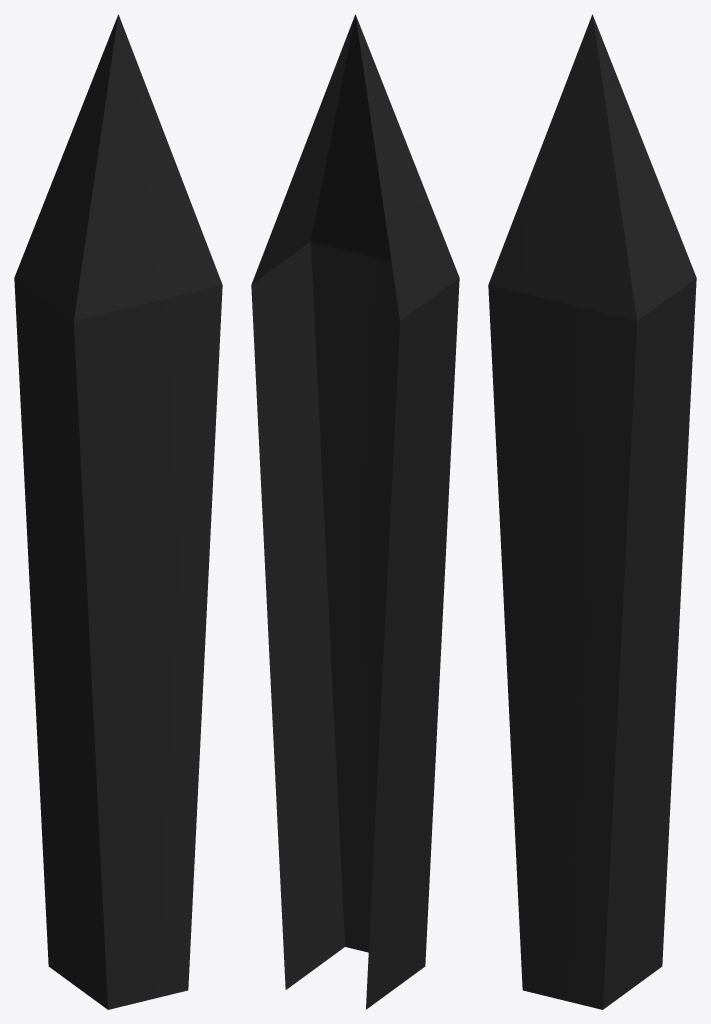
File: lancetta_ore_V2.fbx
3 views of the same model, side by side, from view 1: azimuth 30°, elevation 25°; view 2: azimuth 150°, elevation 25°; view 3: azimuth 330°, elevation 25° (orthographic).
Visible parts, largest first — view 1: lancetta_ore; view 2: lancetta_ore; view 3: lancetta_ore.
Part boxes in pixels (<box>): lancetta_ore: <box>14,14,222,1009</box>; lancetta_ore: <box>251,14,459,1009</box>; lancetta_ore: <box>488,14,696,1009</box>.
Size of the model in its own units: 0.7201 by 4.46 by 0.4983.
